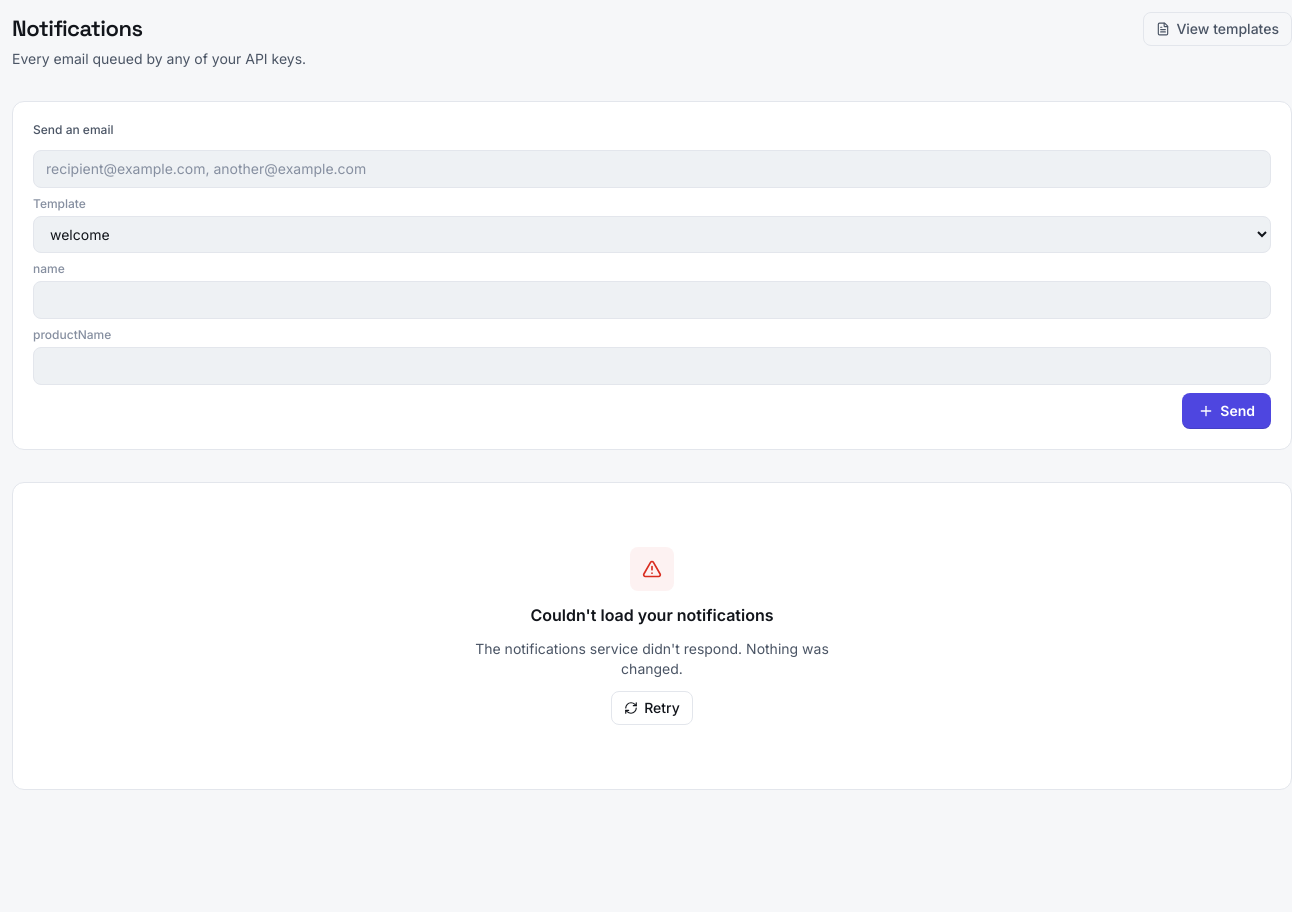
Test: NotificationsPage › shows an error state and retries on demand
expect the heading "Couldn't load your notifications" is shown: met, box top-left (530, 603), bottom-right (774, 627)
Click the button "Retry": (652, 708) top-left (611, 691), bottom-right (693, 725)
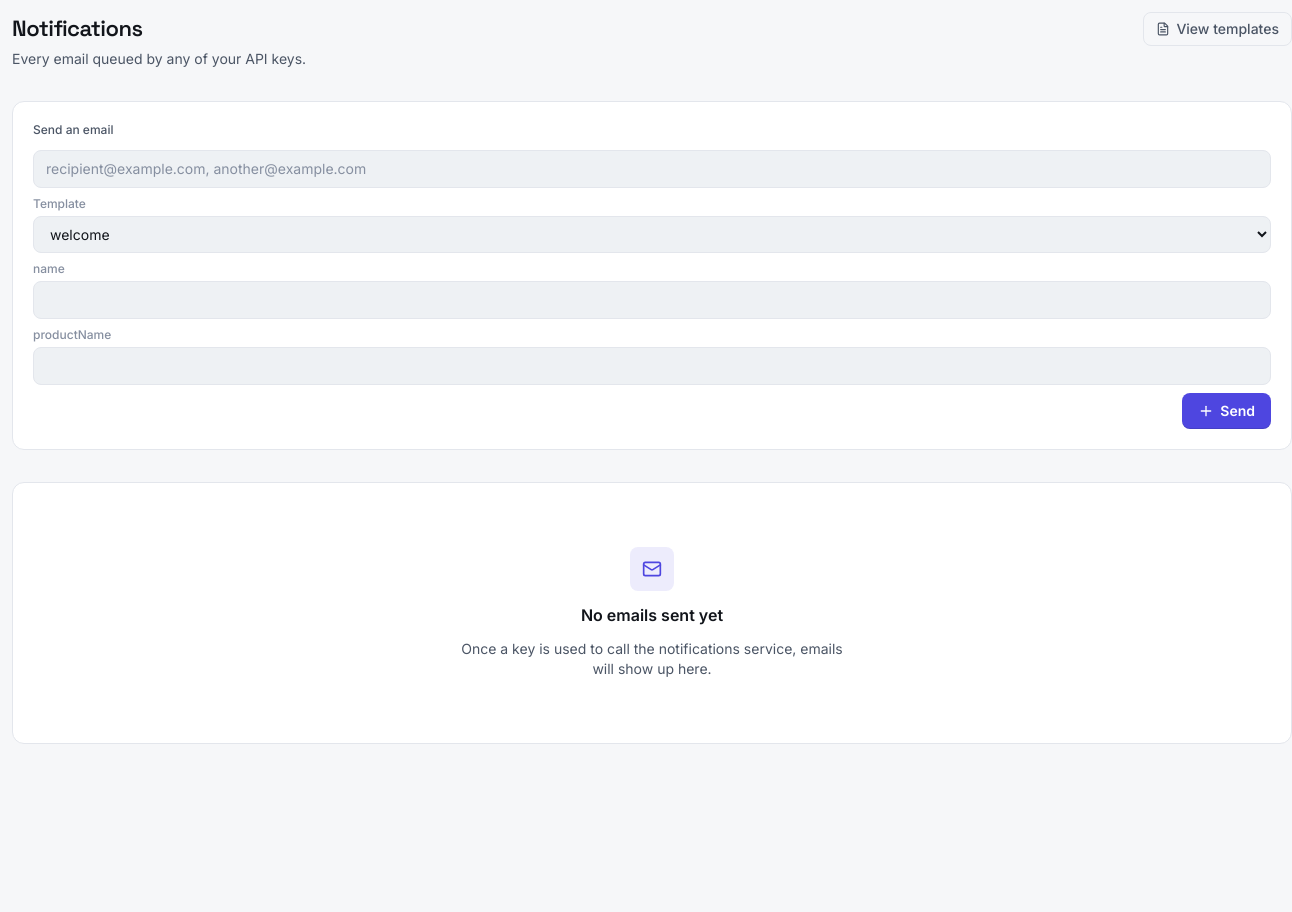
expect the heading "No emails sent yet" is shown: met, box top-left (581, 603), bottom-right (723, 627)
